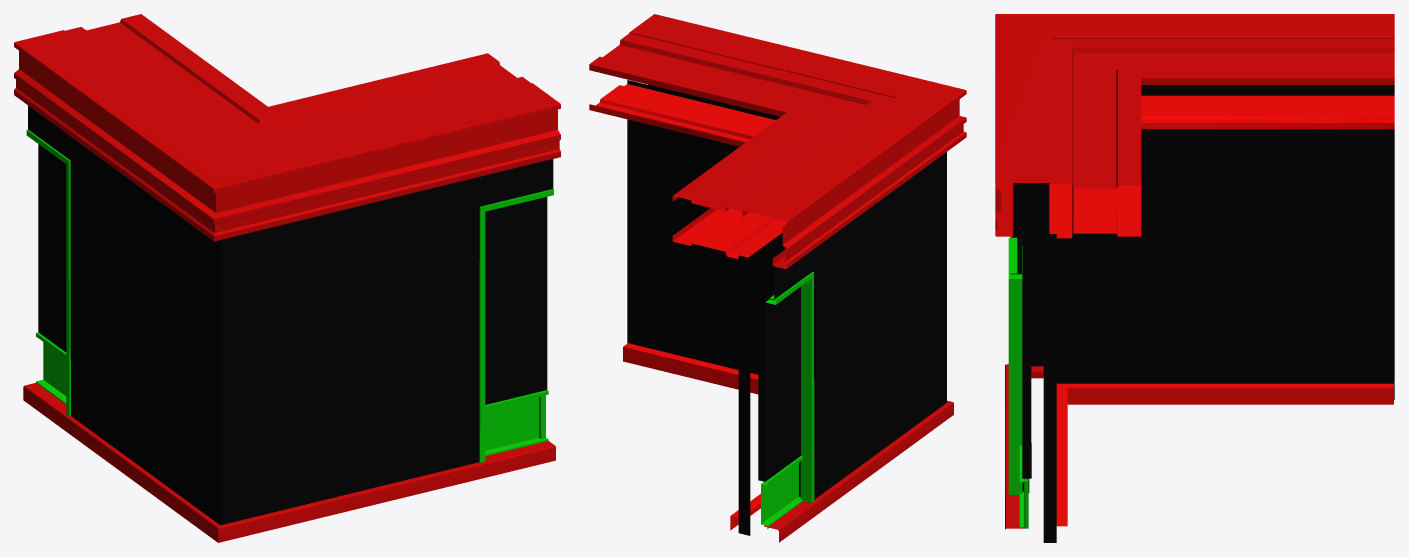
Rendered from SM_Shop_Wall_C_T_L1.FBX.
3 renders of one model, left to right at view 1: azimuth 30°, elevation 25°; view 2: azimuth 150°, elevation 25°; view 3: azimuth 270°, elevation 25°, orthographic. The views are drawn at different scales.
Visible parts, largest first — view 1: SM_Shop_Wall_C_T_L1; view 2: SM_Shop_Wall_C_T_L1; view 3: SM_Shop_Wall_C_T_L1.
Part boxes in pixels (box(x1,y1,x2,y2)): SM_Shop_Wall_C_T_L1: box(14, 14, 560, 542); SM_Shop_Wall_C_T_L1: box(589, 14, 966, 542); SM_Shop_Wall_C_T_L1: box(995, 14, 1394, 542).
Bounding box in the file's own units: 474 × 473 × 470.
